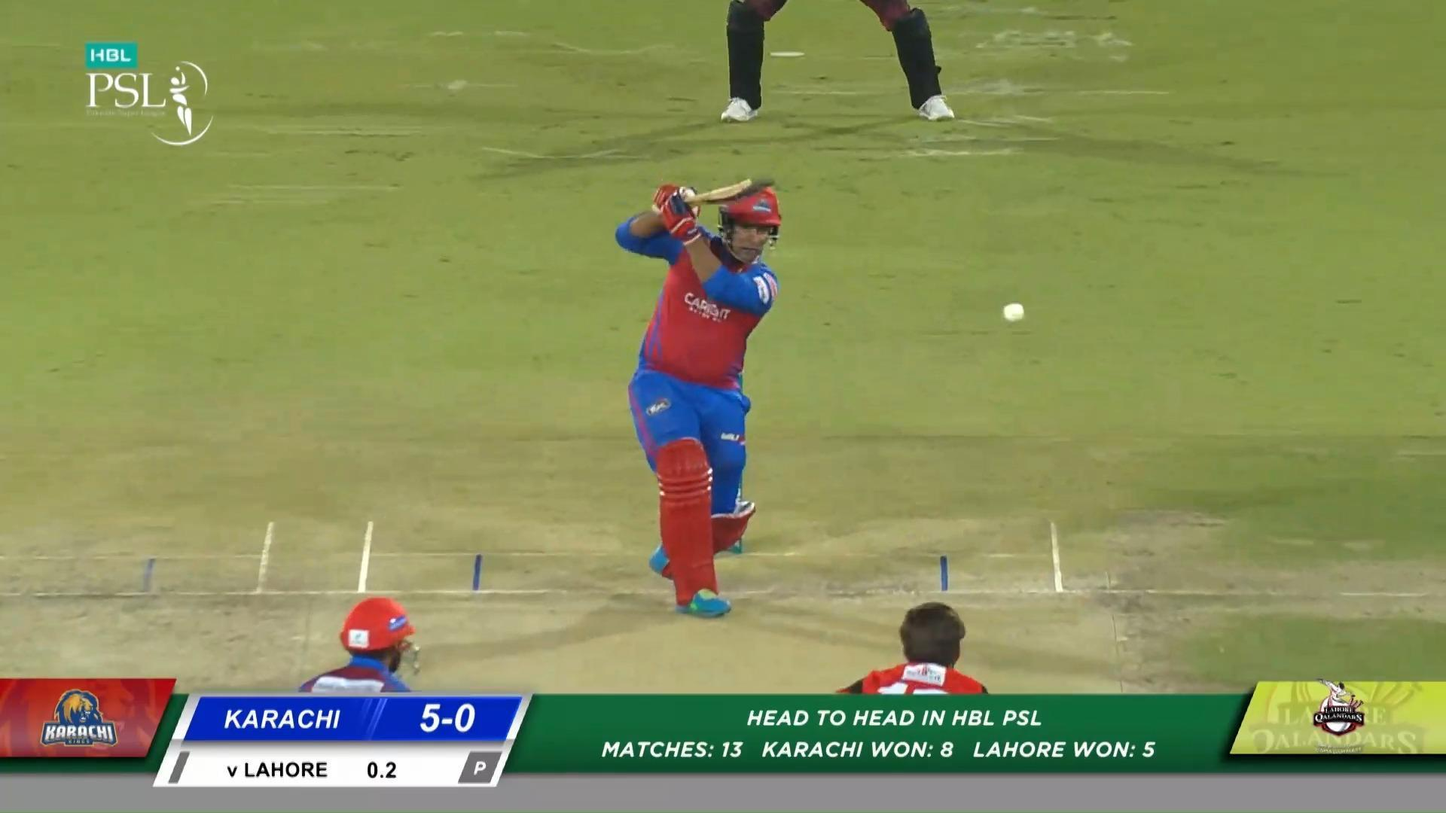BM 1: (614, 171, 783, 621)
BO: (833, 601, 989, 694)
